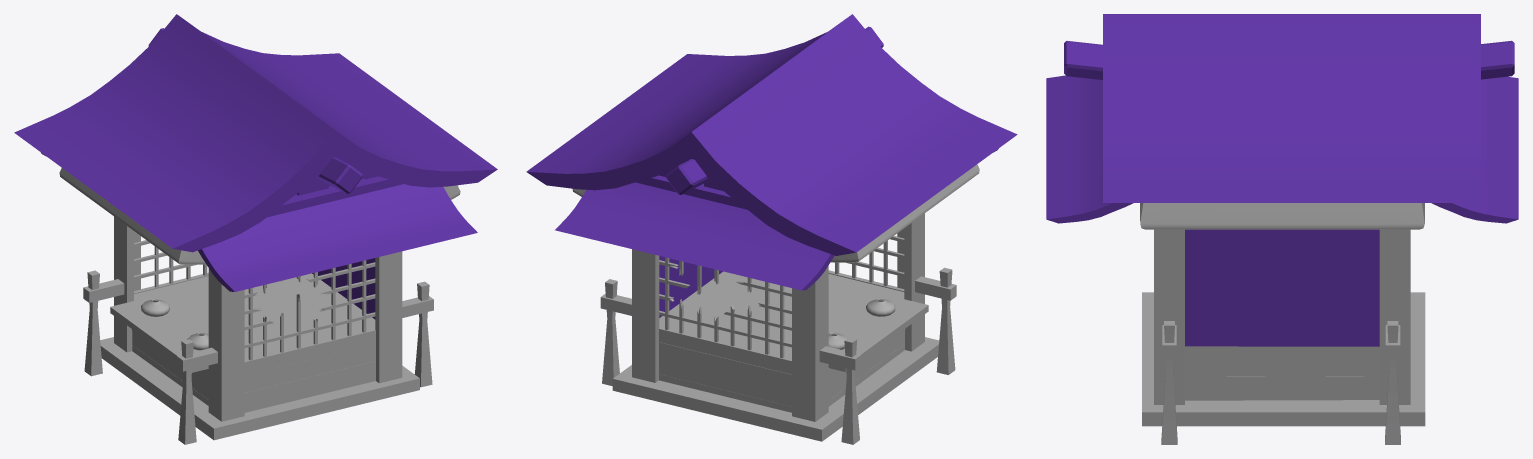
Rendered from 3dm_Altar_01a.fbx.
3 views of the same model, side by side, from view 1: azimuth 30°, elevation 25°; view 2: azimuth 150°, elevation 25°; view 3: azimuth 270°, elevation 25° (orthographic). The views are drawn at different scales.
Visible parts, largest first — view 1: altar1_group11_pCube11, altar1_group13_group12_pCube3; view 2: altar1_group11_pCube11, altar1_group13_group12_pCube3; view 3: altar1_group11_pCube11, altar1_group13_group12_pCube3.
Part boxes in pixels (x1,y1,x2,y2): altar1_group11_pCube11: (14, 14, 497, 319); altar1_group13_group12_pCube3: (59, 168, 460, 444); altar1_group11_pCube11: (526, 14, 1017, 317); altar1_group13_group12_pCube3: (572, 164, 979, 444); altar1_group11_pCube11: (1046, 14, 1518, 346); altar1_group13_group12_pCube3: (1140, 203, 1425, 444).
Bounding box in the file's own units: 307 × 273 × 325.
